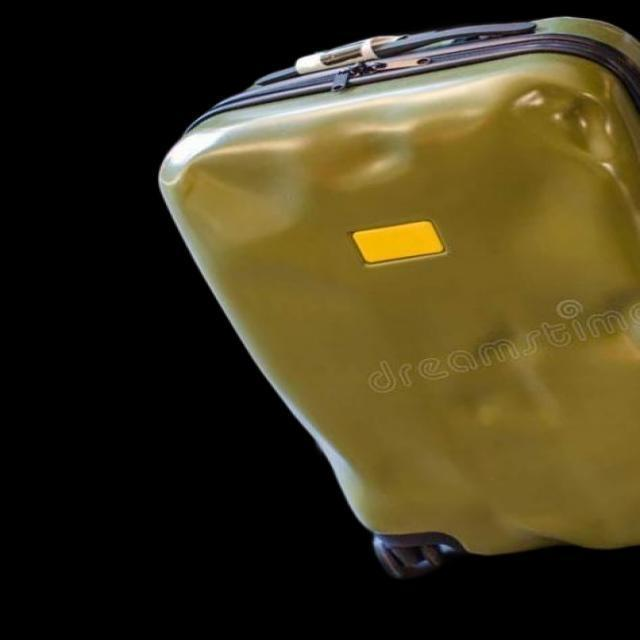Suitcase: (153, 12, 640, 592)
